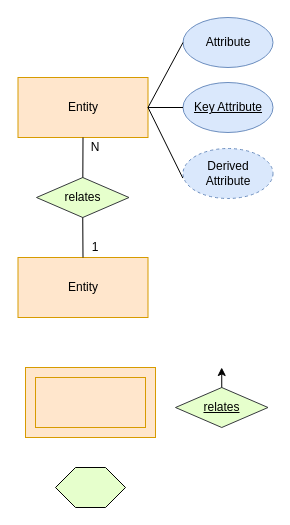
Some shapes in this 290 by 525 pixel diagram are drawn without their labels. Here are the shapes that lost their labels. From the top down, the box of each, then its label:
(34, 376, 146, 428): Weak Entity
(54, 466, 126, 508): is-a
